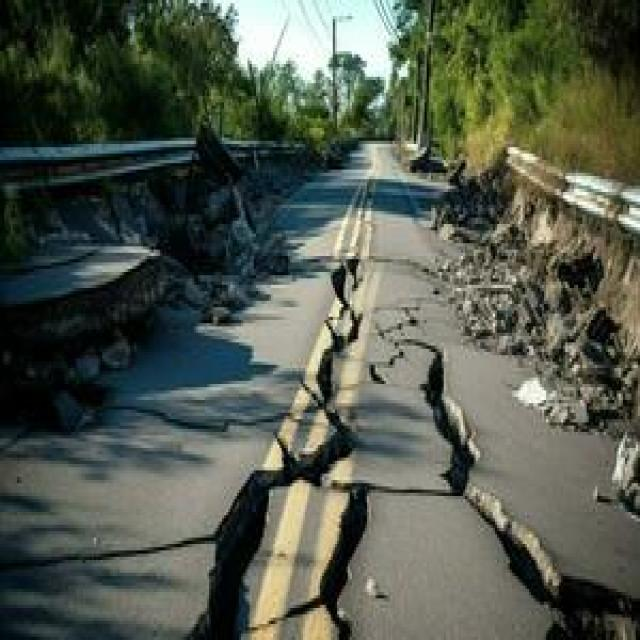road collapse: (36, 237, 640, 637)
